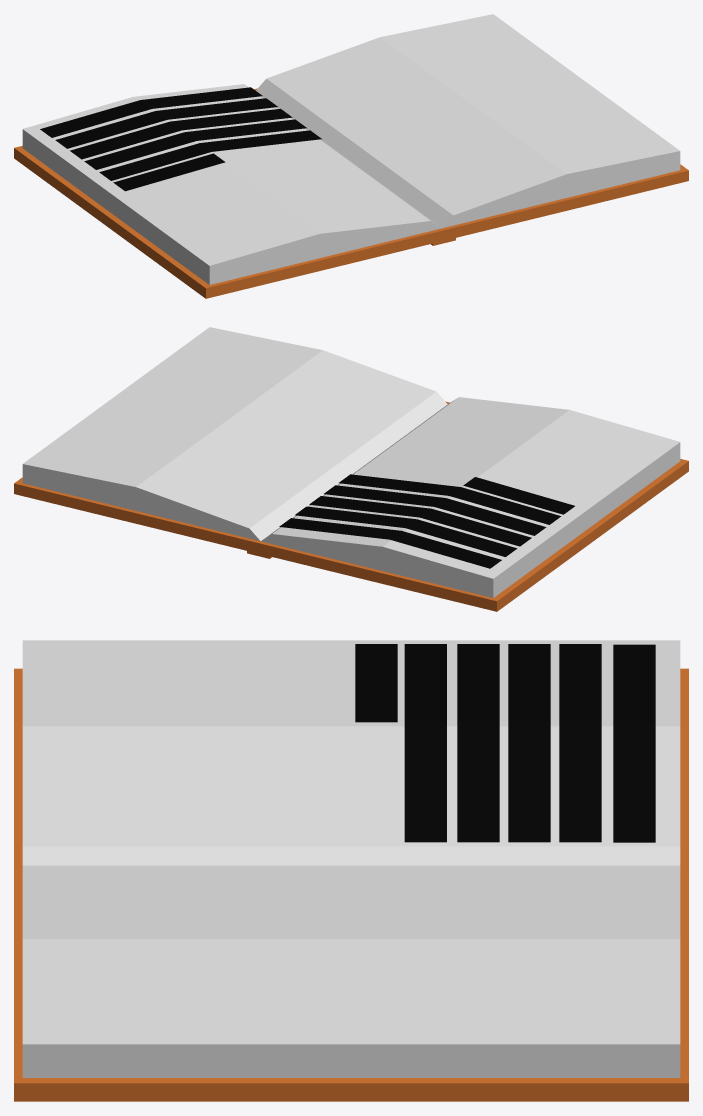
The model's file is H_Book_Open_1.fbx.
3 views of the same model, one above another, from view 1: azimuth 30°, elevation 25°; view 2: azimuth 150°, elevation 25°; view 3: azimuth 270°, elevation 25° (orthographic). The views are drawn at different scales.
Visible parts, largest first — view 1: H_Book_Open_1; view 2: H_Book_Open_1; view 3: H_Book_Open_1.
Boxes of the visible parts, box(x1,y1,x2,y2) form: H_Book_Open_1: box(14, 14, 688, 298); H_Book_Open_1: box(14, 327, 688, 611); H_Book_Open_1: box(14, 640, 688, 1101).
Size of the model in its own units: 192 by 132 by 15.03.
